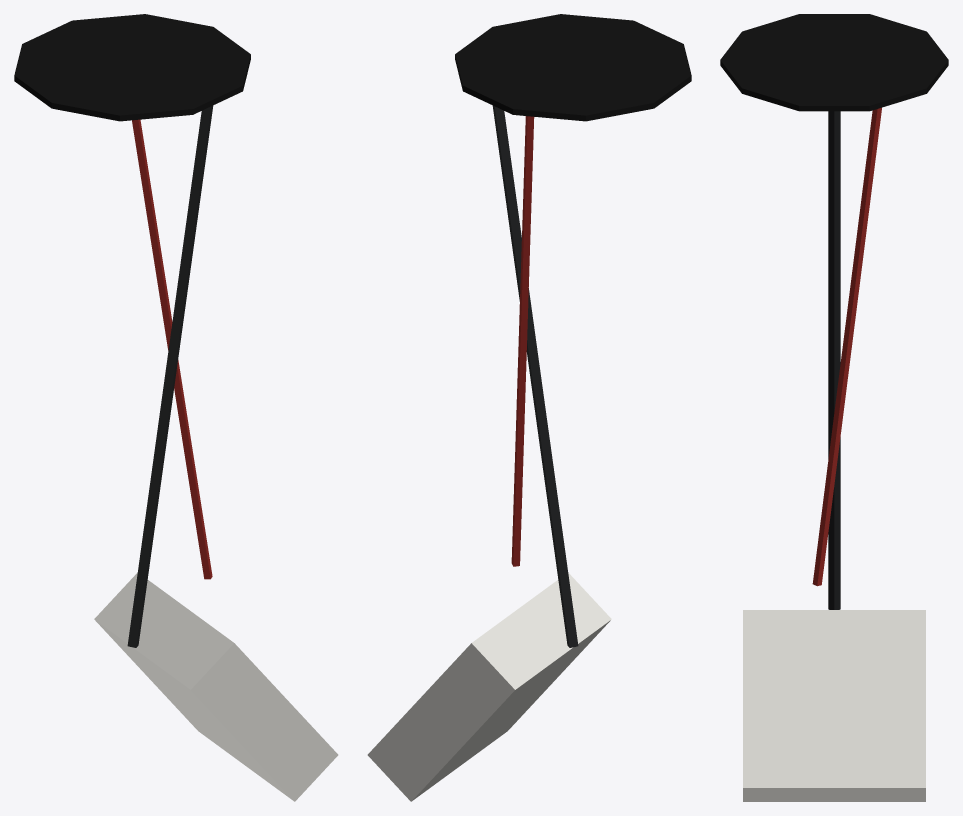
Rendered from downlight_hanging.fbx.
3 renders of one model, left to right at view 1: azimuth 30°, elevation 25°; view 2: azimuth 150°, elevation 25°; view 3: azimuth 270°, elevation 25°, orthographic. The views are drawn at different scales.
Parts seen in each view (by area): view 1: downlight_hanging; view 2: downlight_hanging; view 3: downlight_hanging.
Boxes of the visible parts, bbox=[...] form: downlight_hanging: bbox=[14, 14, 338, 801]; downlight_hanging: bbox=[367, 14, 691, 801]; downlight_hanging: bbox=[720, 14, 948, 801].
Bounding box in the file's own units: 0.1843 × 0.4994 × 0.15.
